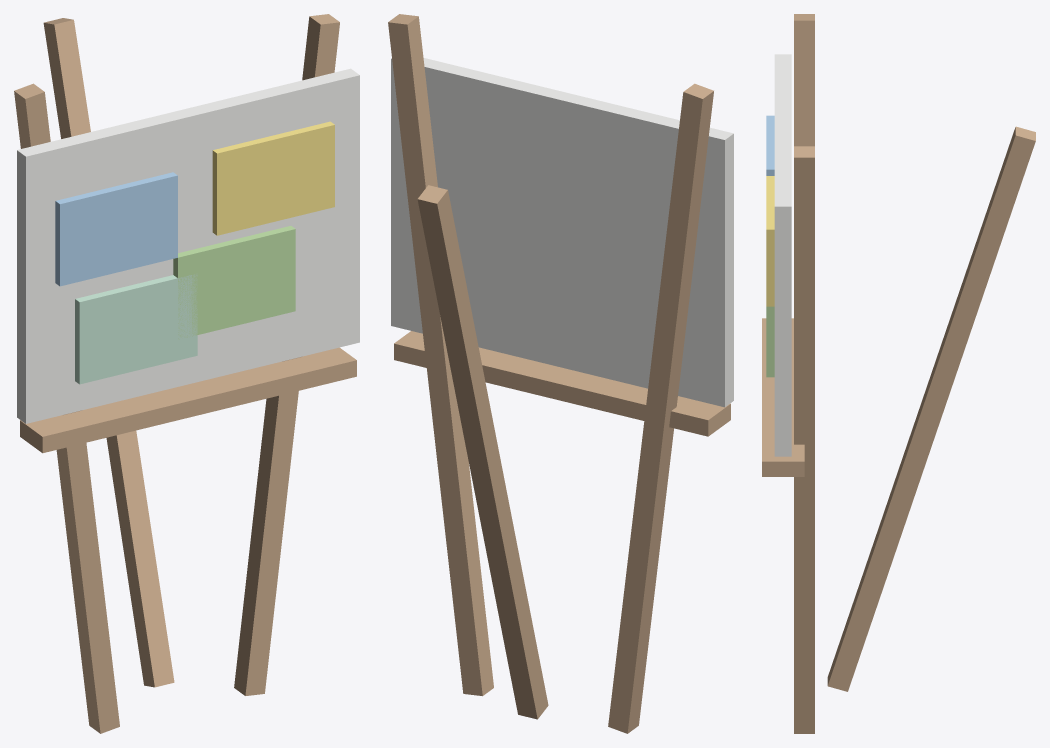
The model's file is easel.glb.
3 views of the same model, side by side, from view 1: azimuth 30°, elevation 25°; view 2: azimuth 150°, elevation 25°; view 3: azimuth 270°, elevation 25° (orthographic). The views are drawn at different scales.
Parts seen in each view (by area): view 1: easel; view 2: easel; view 3: easel.
Part boxes in pixels (x1=…): easel: x1=14, y1=14, x2=359, y2=733; easel: x1=388, y1=14, x2=733, y2=733; easel: x1=762, y1=14, x2=1035, y2=733.
Size of the model in its own units: 0.85 by 1.59 by 0.6455.
